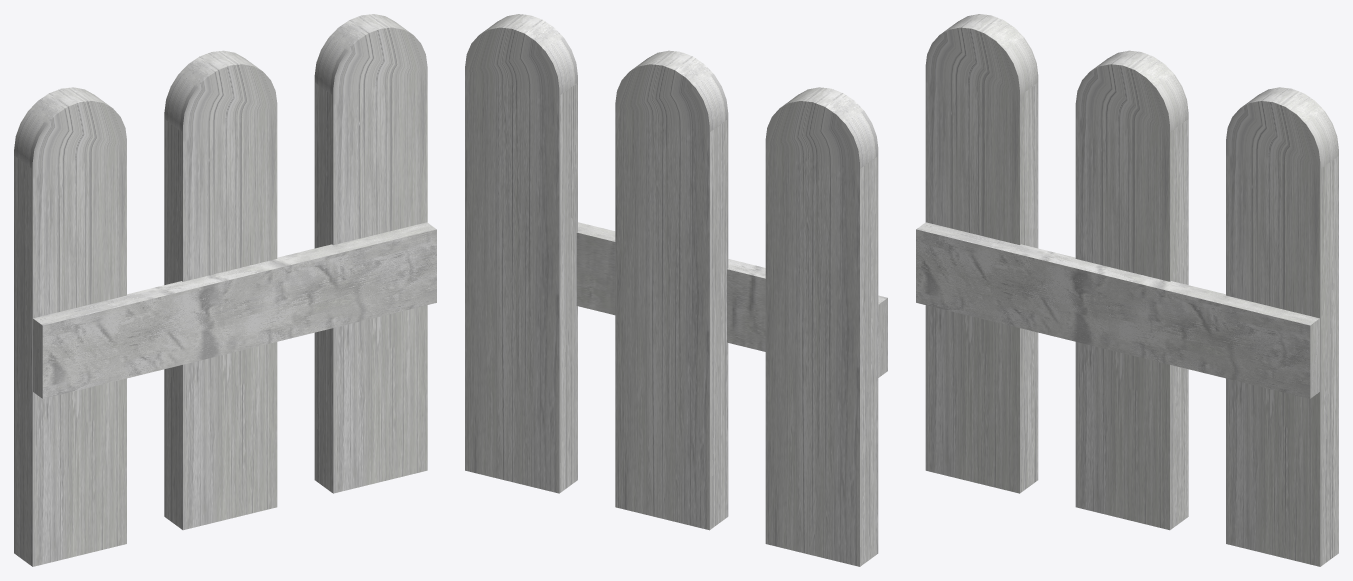
File: SmallWall.fbx
3 renders of one model, left to right at view 1: azimuth 30°, elevation 25°; view 2: azimuth 150°, elevation 25°; view 3: azimuth 330°, elevation 25°, orthographic.
Visible parts, largest first — view 1: polySurface3; view 2: polySurface3; view 3: polySurface3.
Boxes of the visible parts, x1,y1,x2,y2 form: polySurface3: [14, 14, 436, 566]; polySurface3: [465, 14, 887, 566]; polySurface3: [916, 14, 1338, 566].
Bounding box in the file's own units: 36.92 × 40.5 × 4.58.
1 material, 1 textured.
